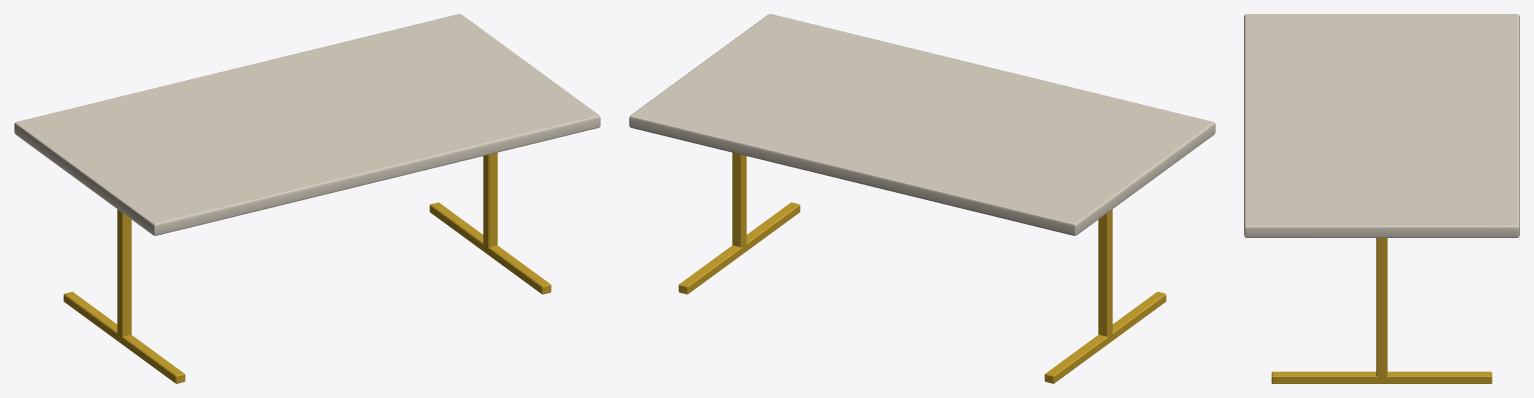
File: prop_coffee_table.glb
3 renders of one model, left to right at view 1: azimuth 30°, elevation 25°; view 2: azimuth 150°, elevation 25°; view 3: azimuth 270°, elevation 25°, orthographic. The views are drawn at different scales.
Parts seen in each view (by area): view 1: Table; view 2: Table; view 3: Table.
Boxes of the visible parts, x1,y1,x2,y2 form: Table: (14,14,600,383); Table: (629,14,1215,383); Table: (1244,14,1519,383).
Size of what is drawn, in the model's own units: 1.1 by 0.42 by 0.6.
